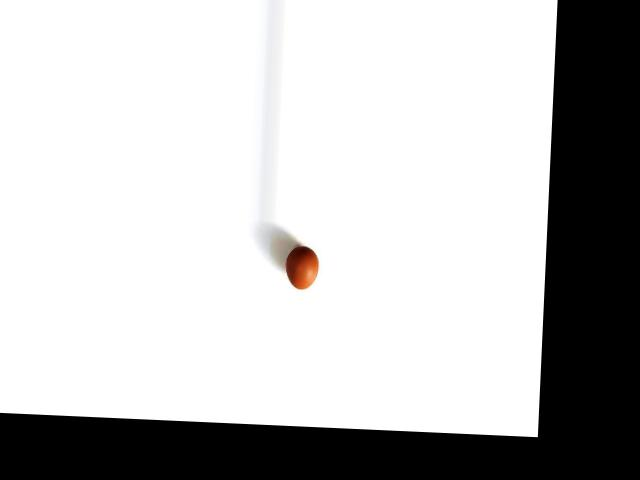egg: (285, 245, 319, 290)
